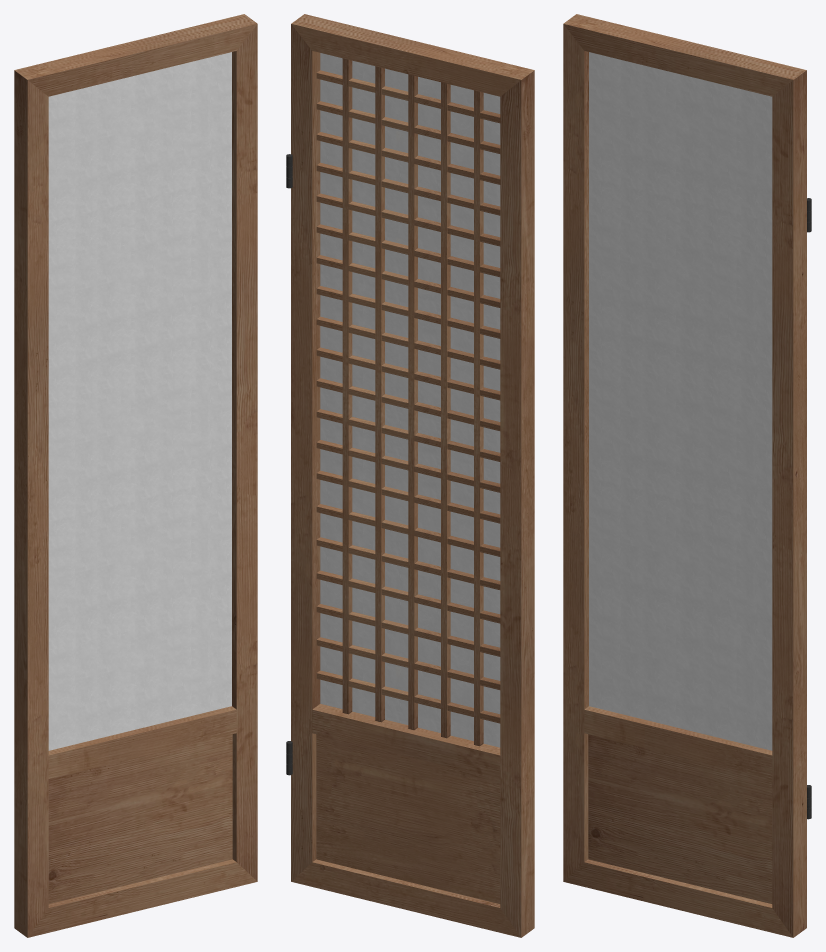
Rendered from SM_Yeonkyung_O_Haenggak_Door_A_001.fbx.
3 renders of one model, left to right at view 1: azimuth 30°, elevation 25°; view 2: azimuth 150°, elevation 25°; view 3: azimuth 330°, elevation 25°, orthographic.
Parts seen in each view (by area): view 1: SM_Yeonkyung_O_Haenggak_Door_A_001; view 2: SM_Yeonkyung_O_Haenggak_Door_A_001; view 3: SM_Yeonkyung_O_Haenggak_Door_A_001.
Boxes of the visible parts, box(x1,y1,x2,y2) form: SM_Yeonkyung_O_Haenggak_Door_A_001: box(14, 14, 257, 937); SM_Yeonkyung_O_Haenggak_Door_A_001: box(286, 14, 534, 937); SM_Yeonkyung_O_Haenggak_Door_A_001: box(563, 14, 811, 937).
Size of the model in its own units: 50.36 by 177 by 6.23.
